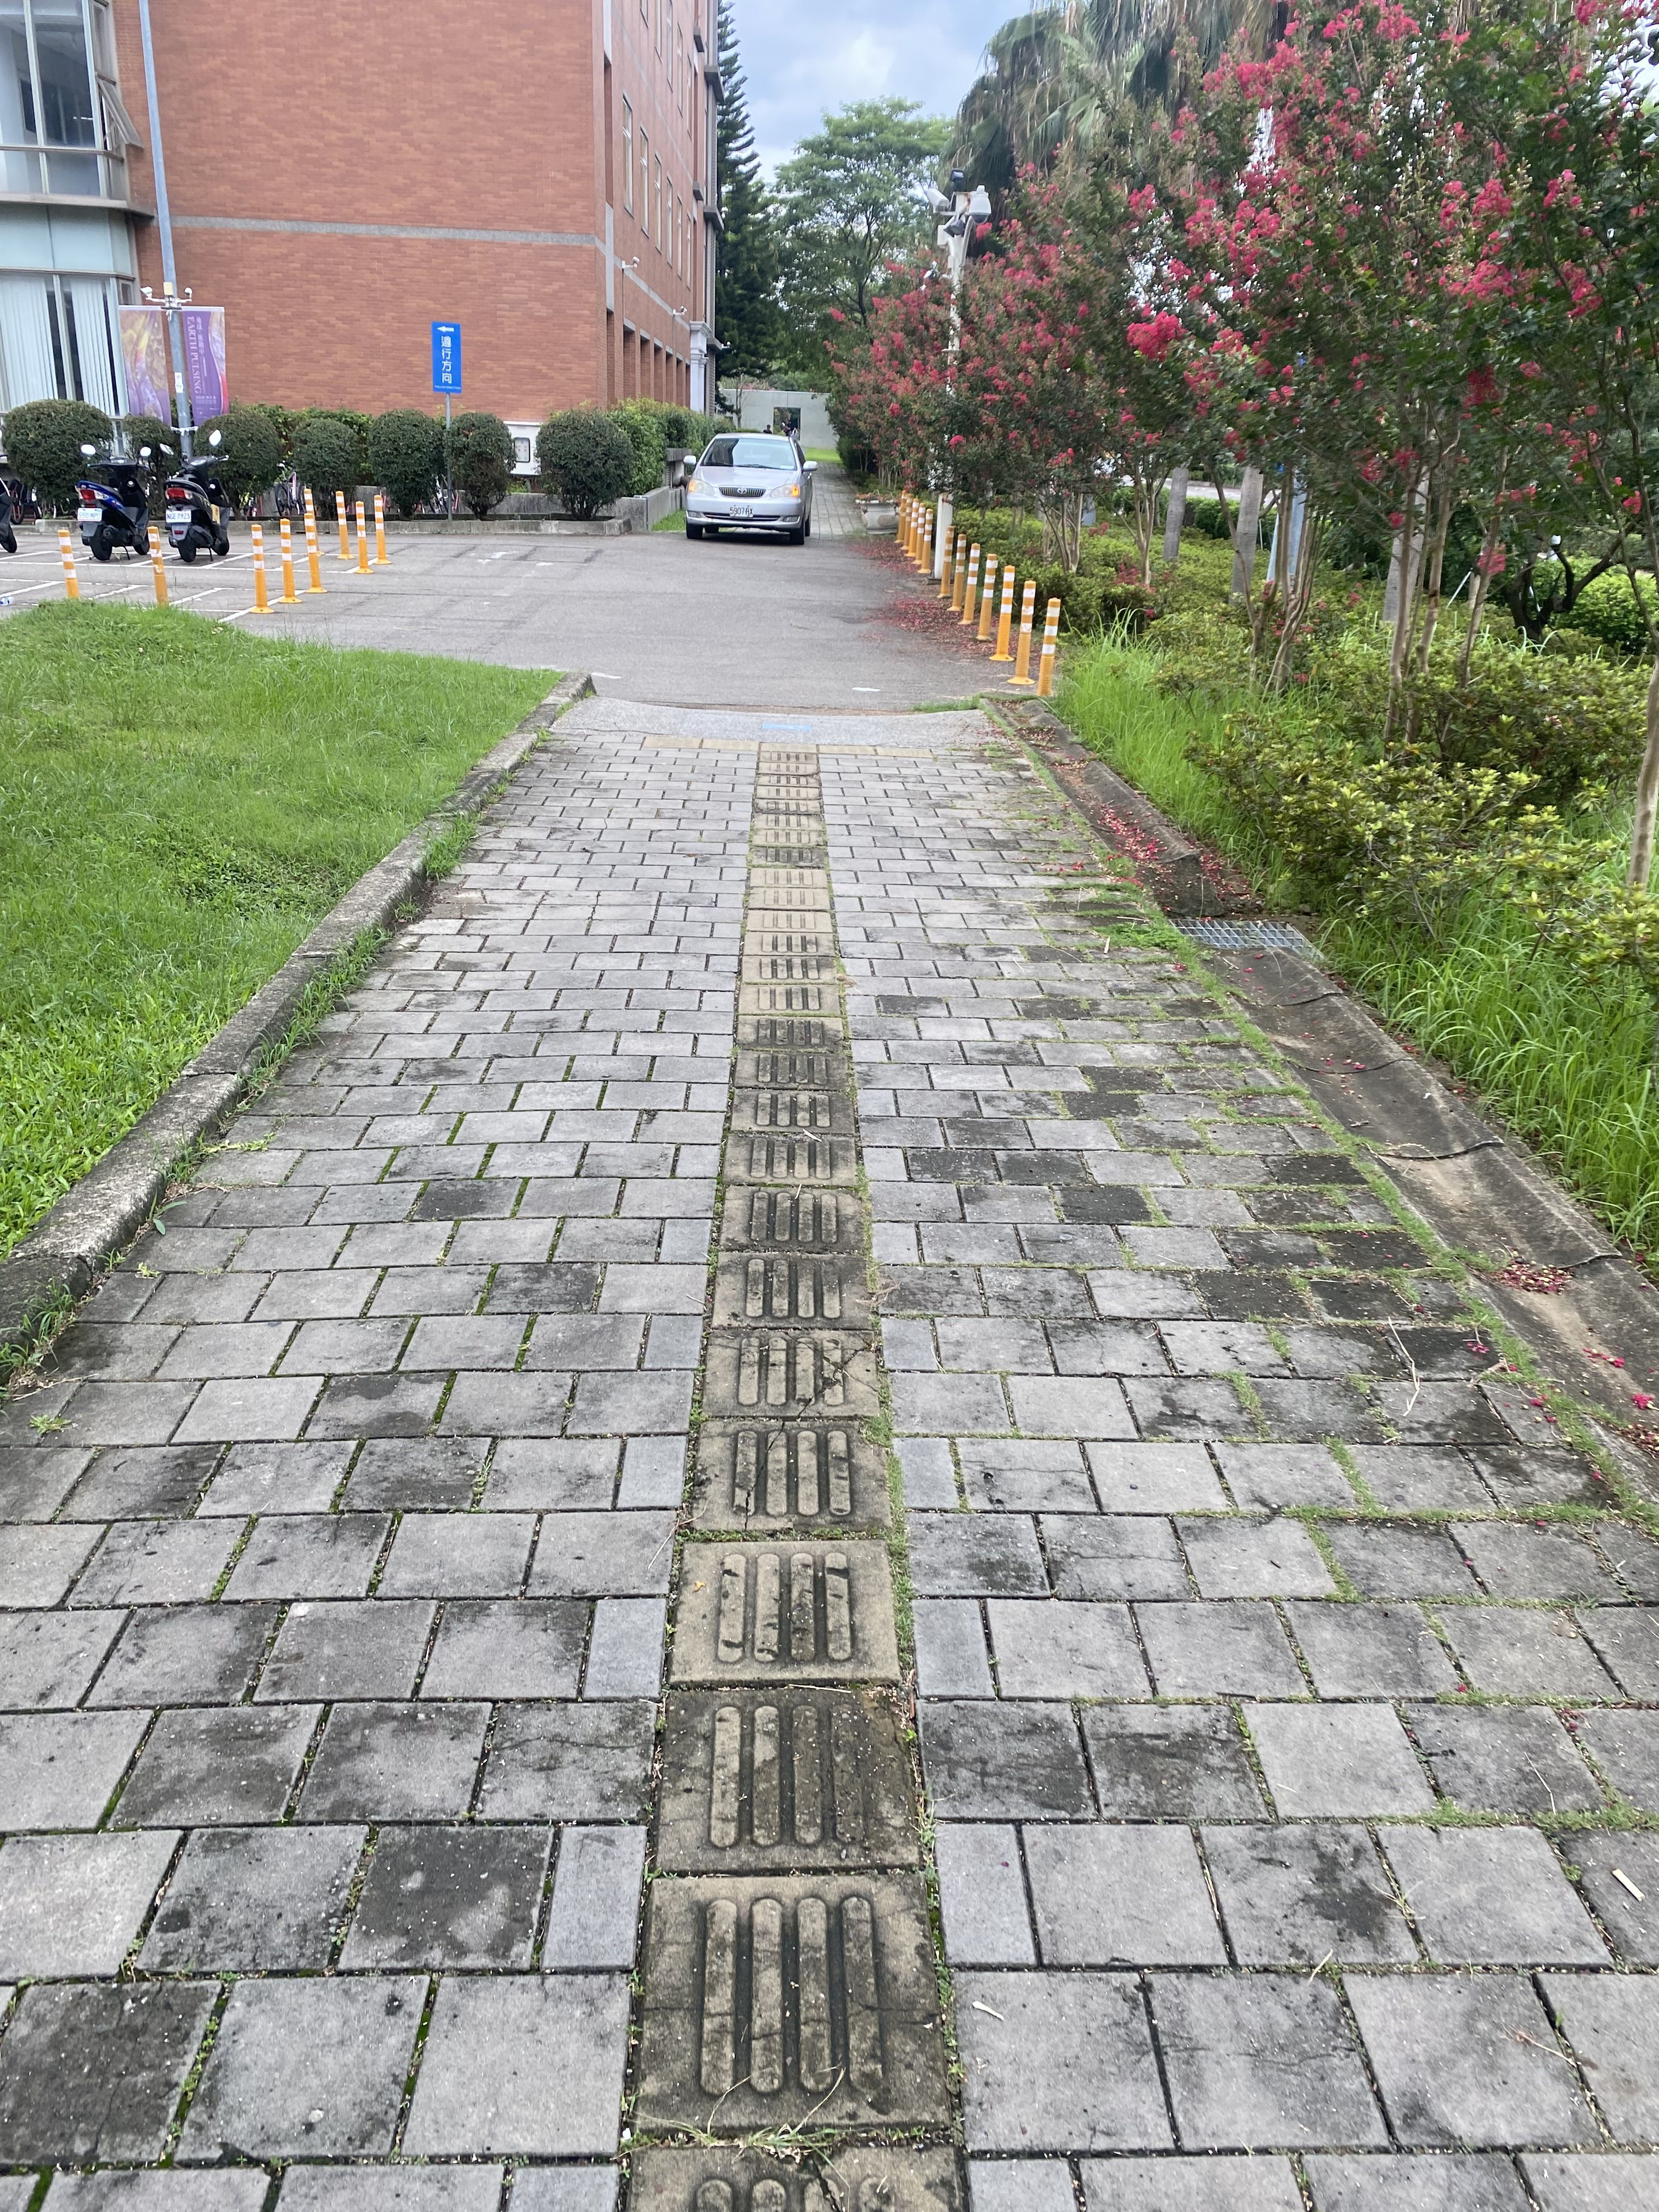0: (3, 700, 1659, 2210)
sidewalk: (652, 444, 957, 751)
